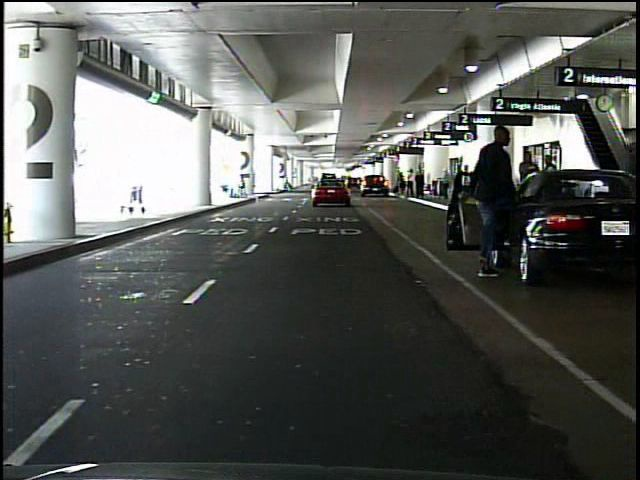person: (473, 123, 524, 283), (515, 149, 543, 223), (541, 153, 560, 222), (416, 169, 427, 201), (440, 168, 451, 200), (405, 168, 415, 200), (397, 172, 407, 197), (283, 175, 293, 192)
